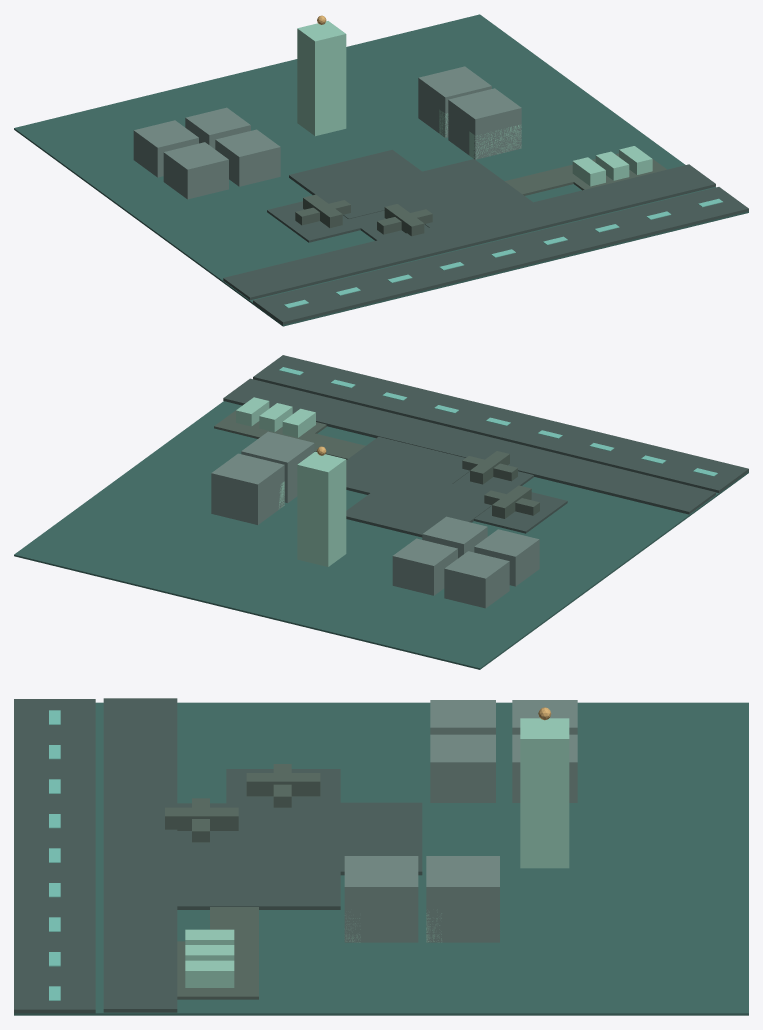
Rendered from stage_14.glb.
3 renders of one model, top to bottom at view 1: azimuth 30°, elevation 25°; view 2: azimuth 150°, elevation 25°; view 3: azimuth 270°, elevation 25°, orthographic. The views are drawn at different scales.
Parts seen in each view (by area): view 1: geometry_0; view 2: geometry_0; view 3: geometry_0.
Part boxes in pixels (box(x1,y1,x2,y2)): geometry_0: box(14, 14, 748, 326); geometry_0: box(14, 355, 748, 669); geometry_0: box(14, 698, 748, 1015).
Size of the model in its own units: 9 by 2.06 by 9.
